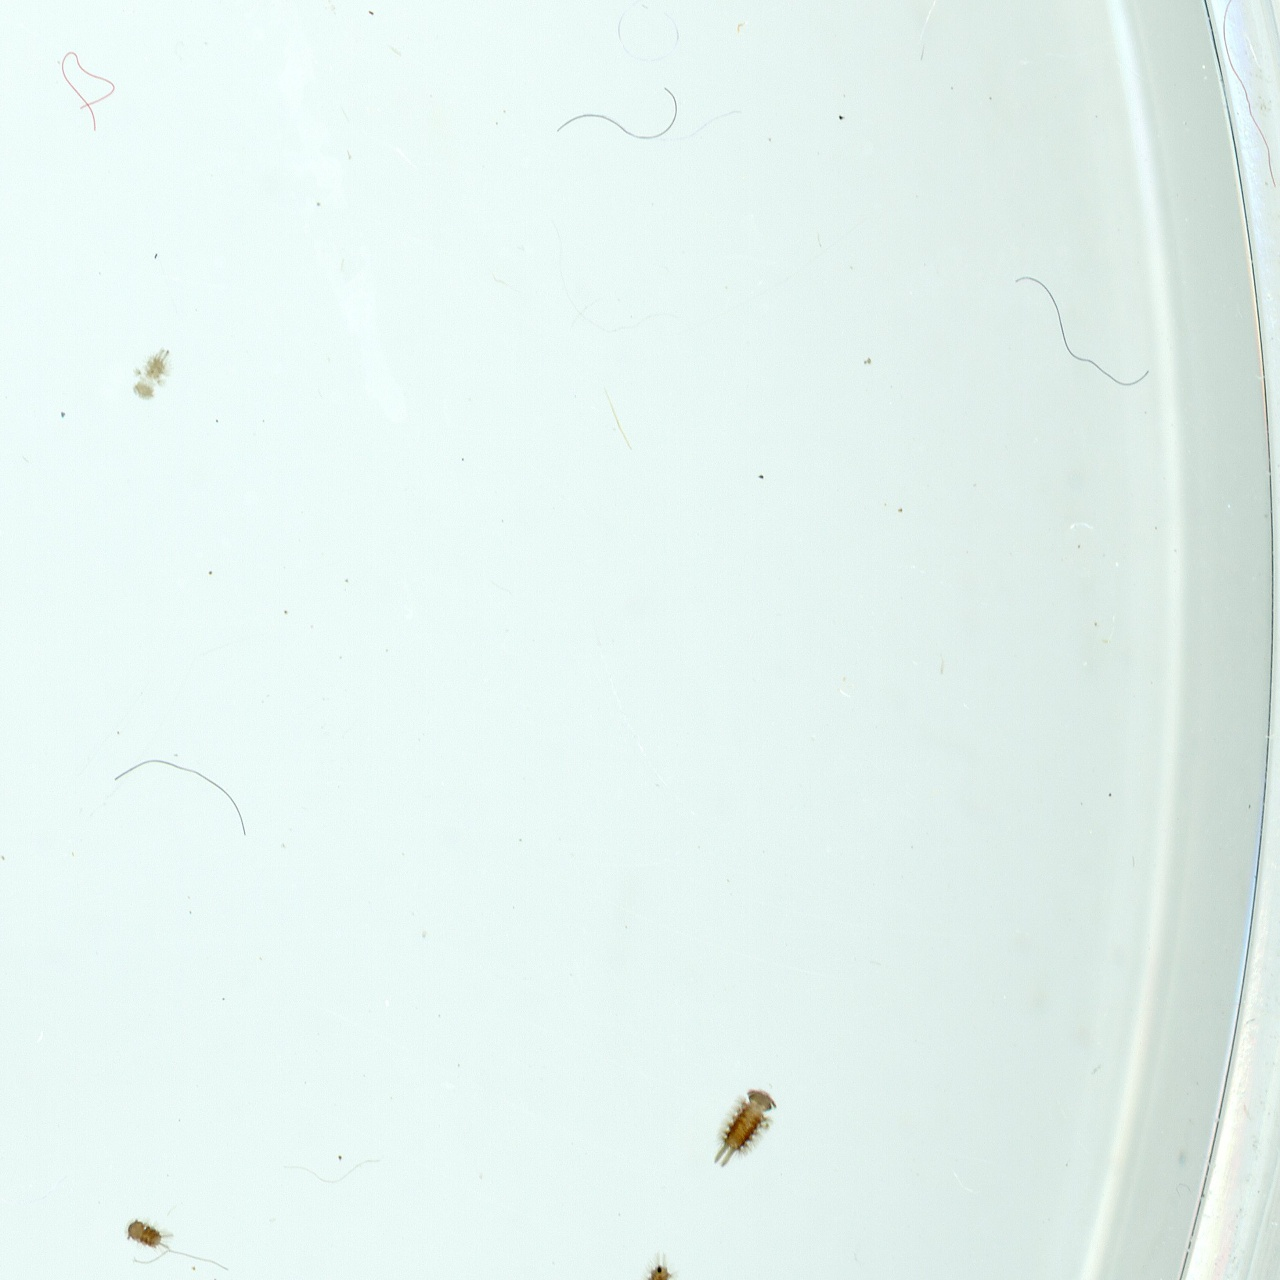arthropod: (710, 1083, 777, 1170), (126, 340, 175, 397), (120, 1213, 174, 1249), (640, 1247, 674, 1280)
